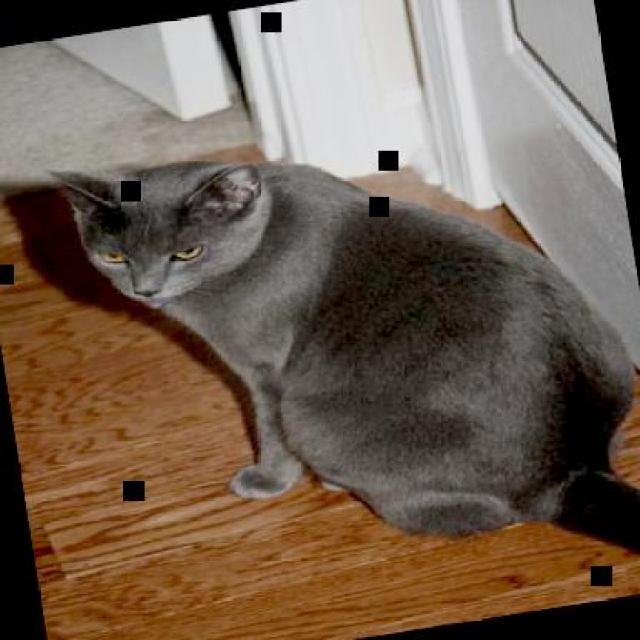cat: (43, 80, 639, 638)
